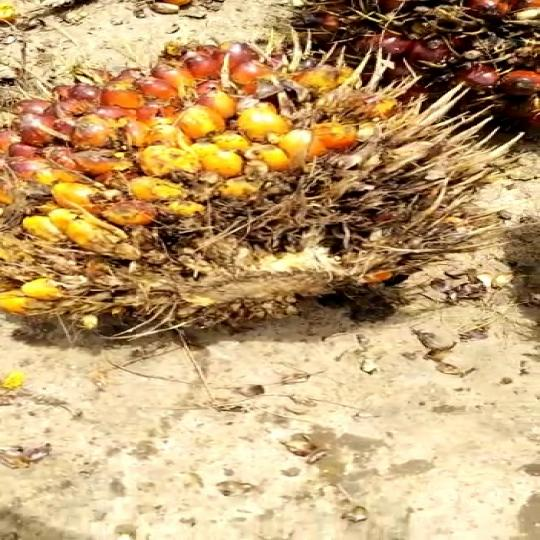masak: (0, 41, 485, 337)
